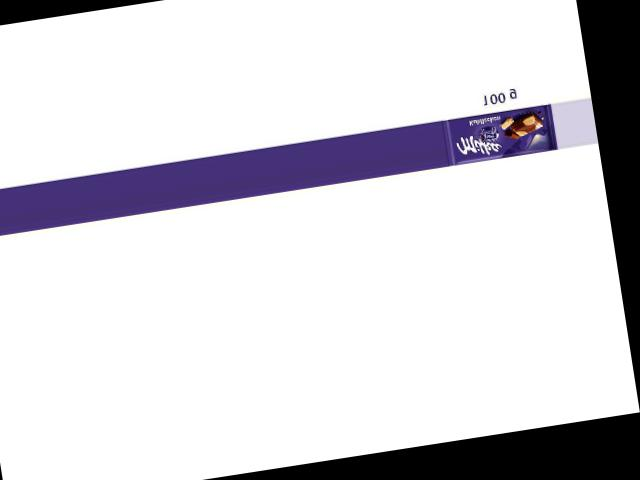chocolate: (441, 96, 559, 167)
